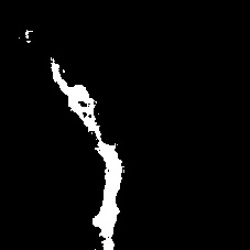crack: (50, 57, 123, 249), (25, 30, 34, 44)
